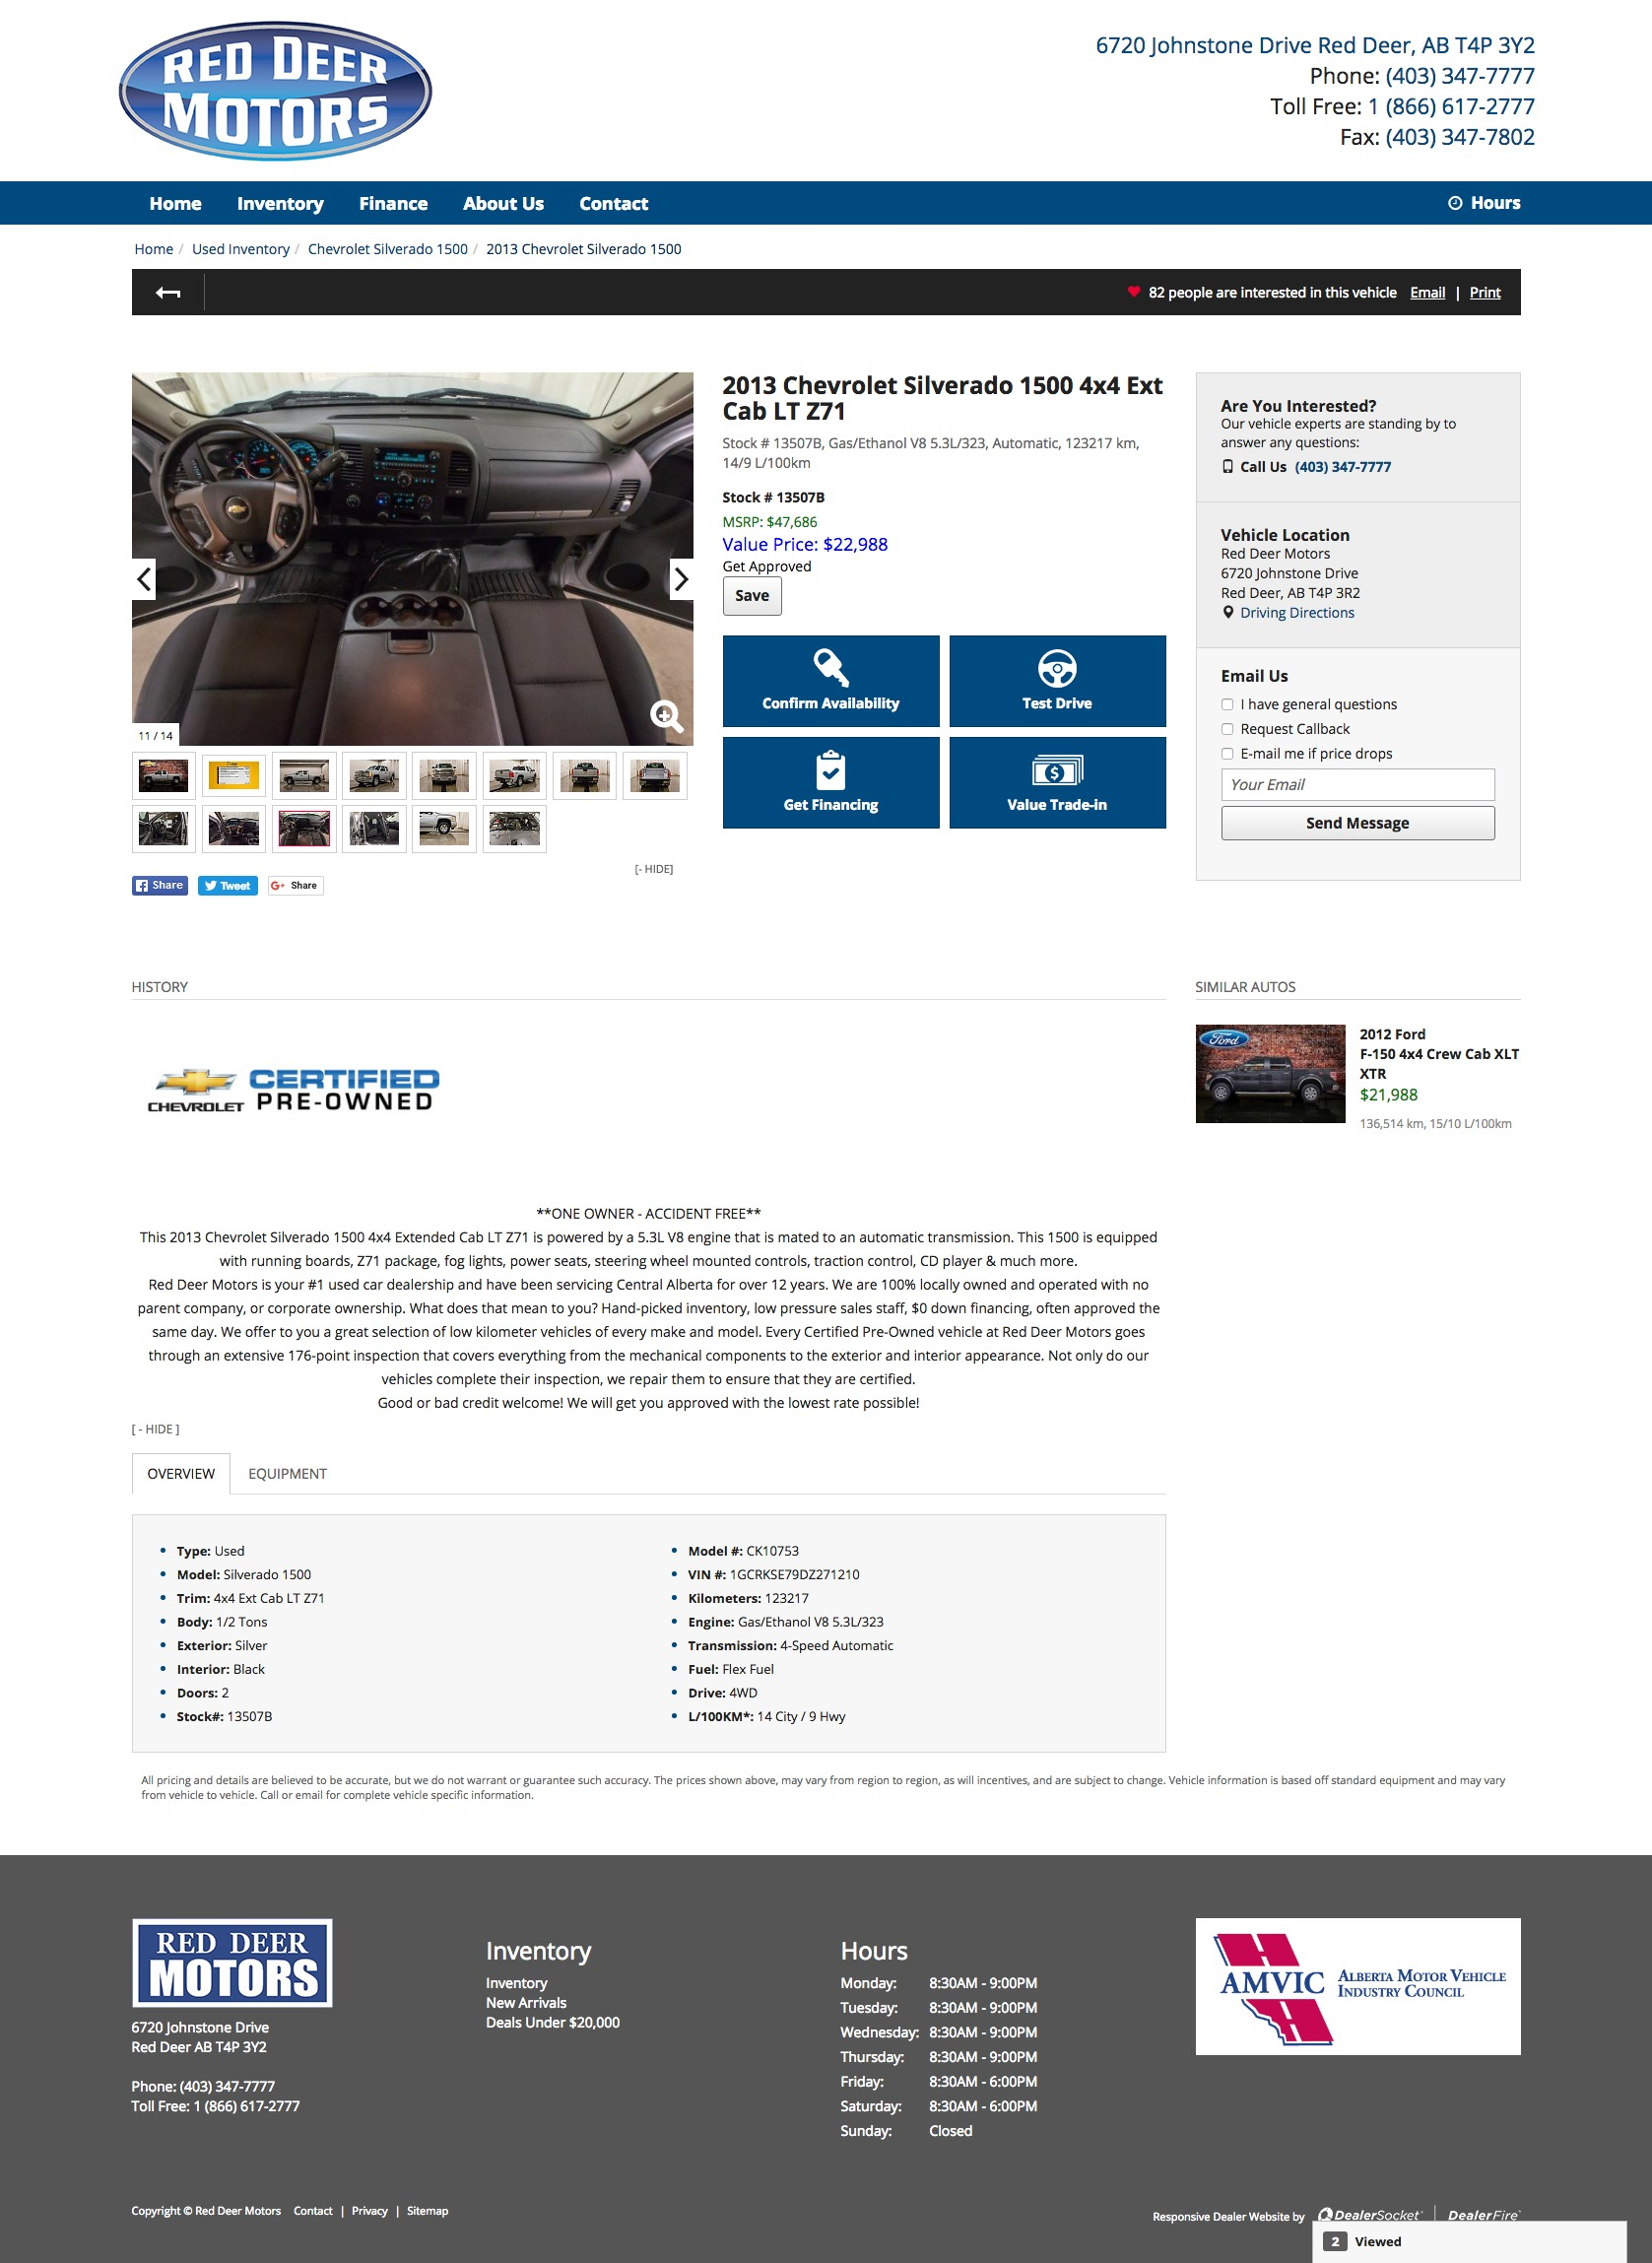car: (670, 559, 698, 603)
